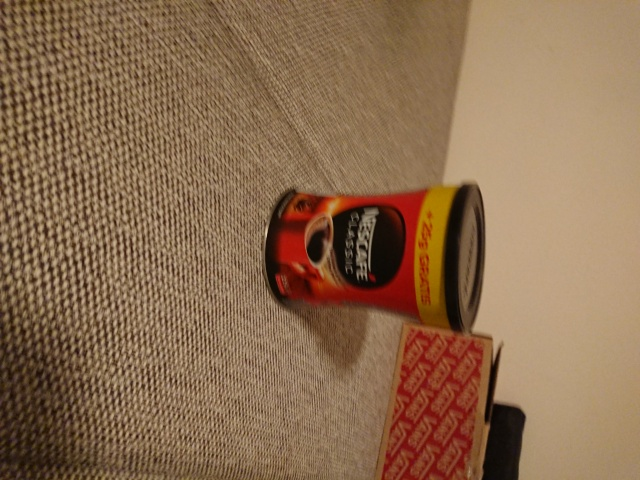Nescafe Classic 225g: (258, 179, 489, 338)
